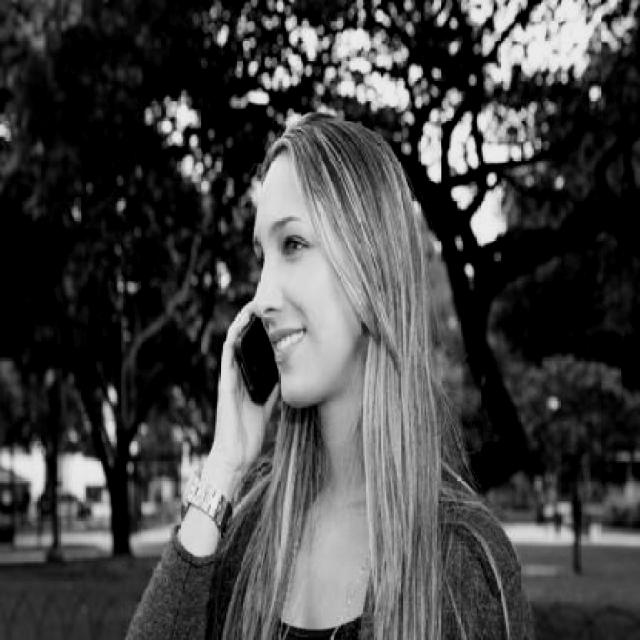fake: (234, 313, 282, 409)
